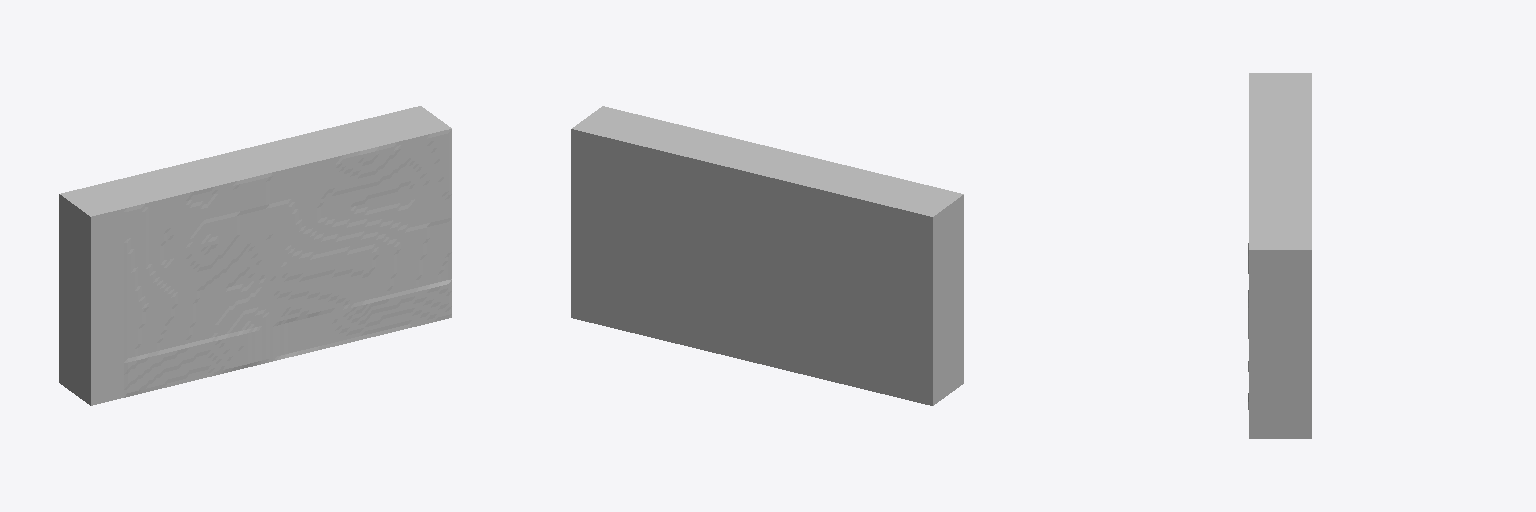
File: rectangular_prism_bumps_0_3.obj
3 views of the same model, side by side, from view 1: azimuth 30°, elevation 25°; view 2: azimuth 150°, elevation 25°; view 3: azimuth 270°, elevation 25° (orthographic).
Bounding box in the file's own units: 10 × 5 × 1.52.